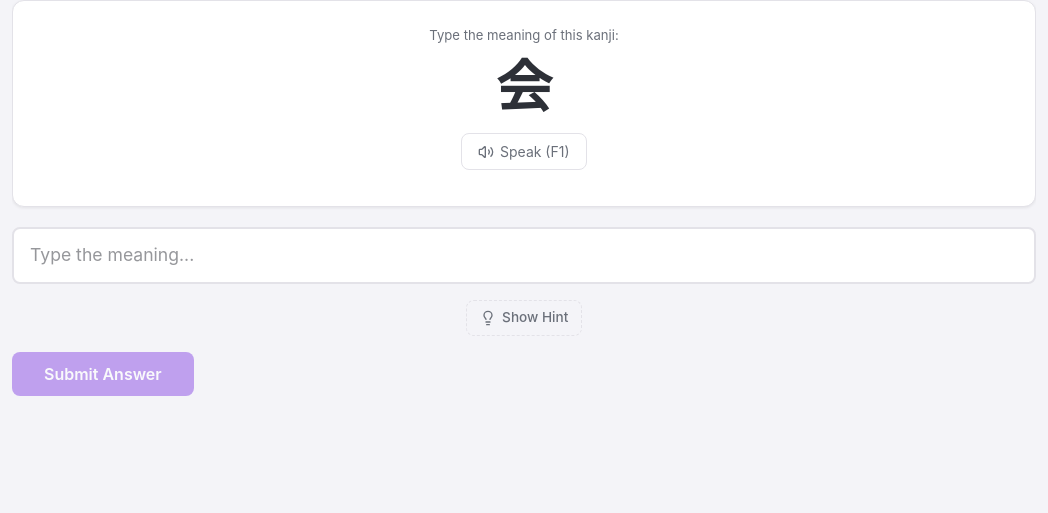
Test case: KanjiTypingQuiz — submit correct answer › shows Correct! feedback
Type "meet" into the field with placeholder "Type the meaning..." at (524, 255), box x1=12 y1=227 x2=1036 y2=284
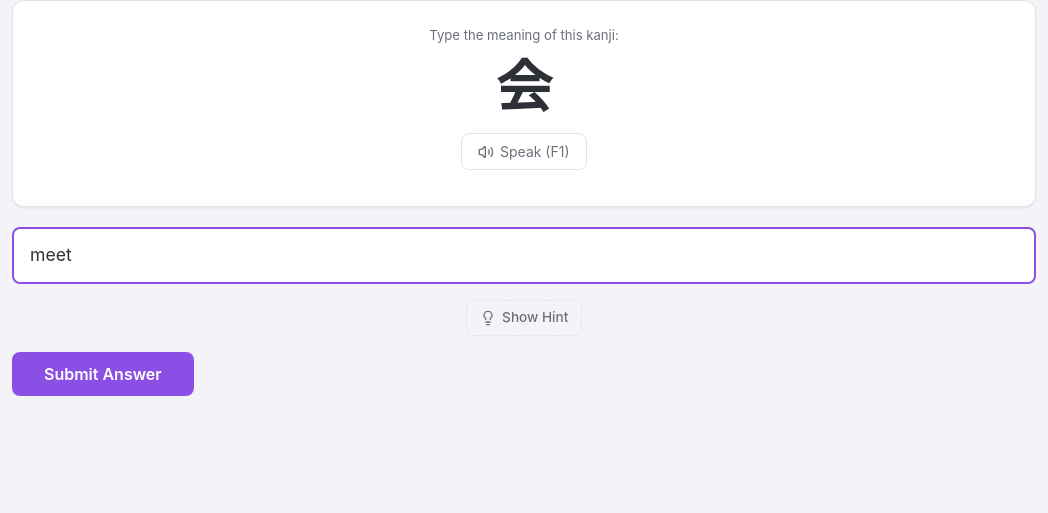
Click the button "Submit Answer" at (103, 374), box x1=12 y1=352 x2=194 y2=396
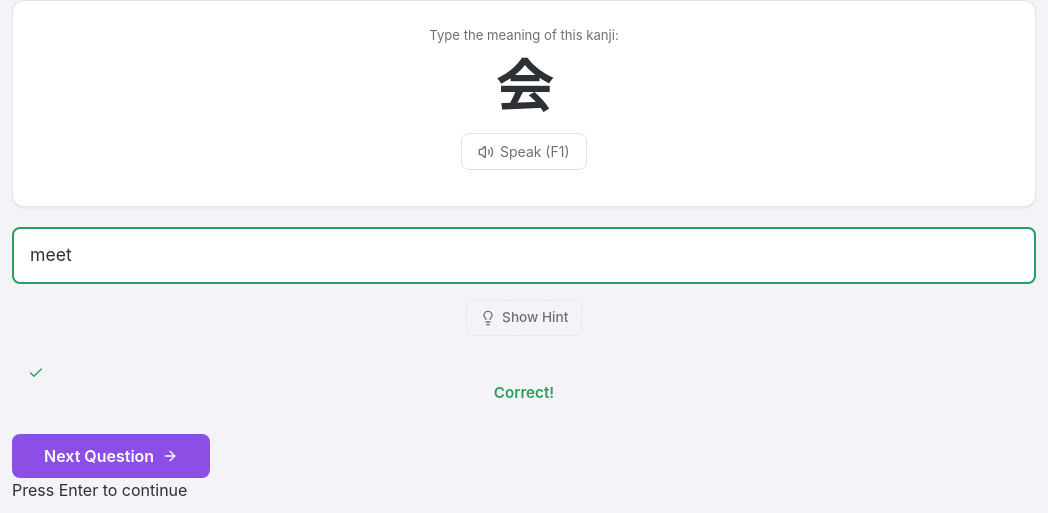
expect the text "Correct!" is shown: met, box x1=28 y1=365 x2=554 y2=402
